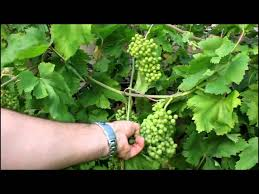grapes: (141, 105, 182, 162), (128, 34, 162, 82)
